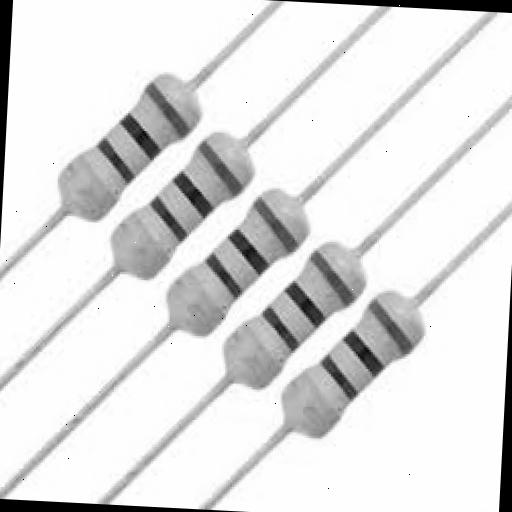RESISTOR: (20, 52, 216, 244), (77, 112, 275, 302), (280, 304, 476, 484), (134, 180, 334, 338), (222, 236, 384, 406)
